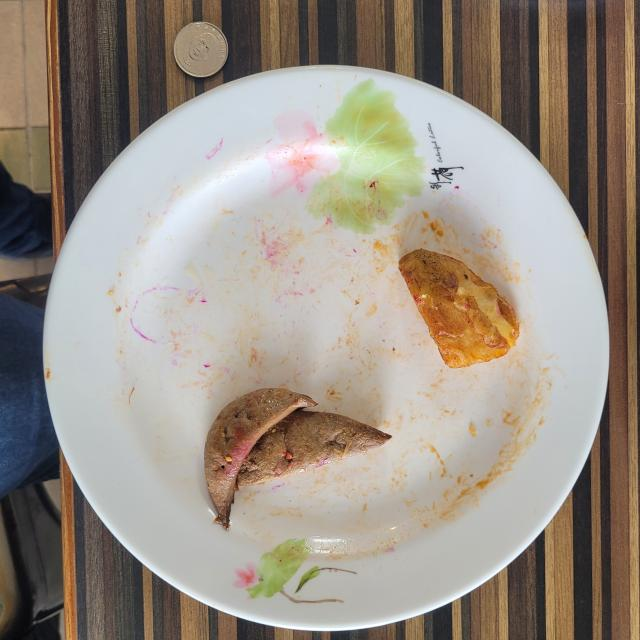coin: (174, 21, 228, 78)
fried potato: (399, 249, 519, 368)
pig liver: (204, 389, 391, 529)
